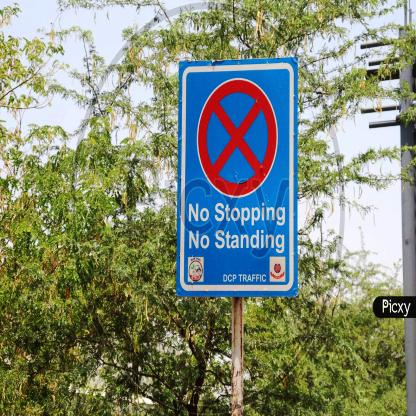No stopping: (194, 74, 280, 204)
